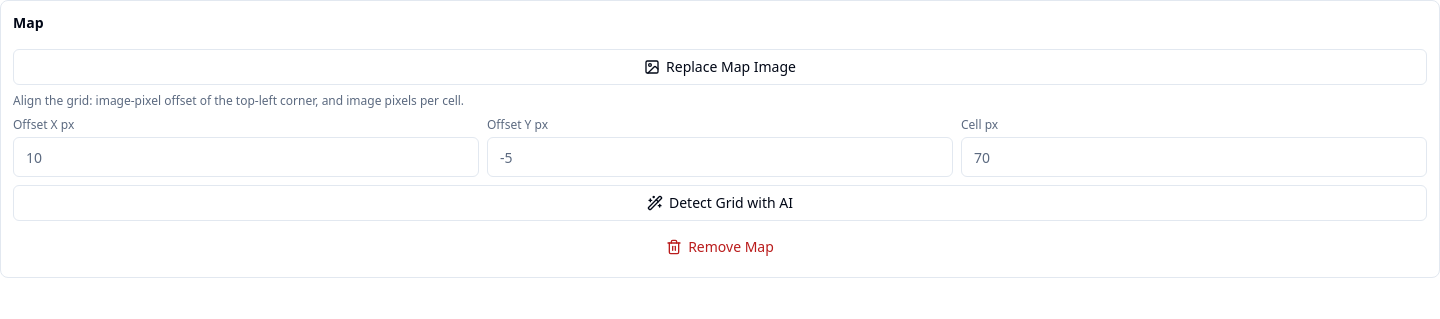
Test: MapPanel — Phase 10 grid detection › surfaces a flow error without offering anything to apply
Click the button "Detect Grid with AI". click: coordinates (720, 203)
box: [13,185,1427,221]
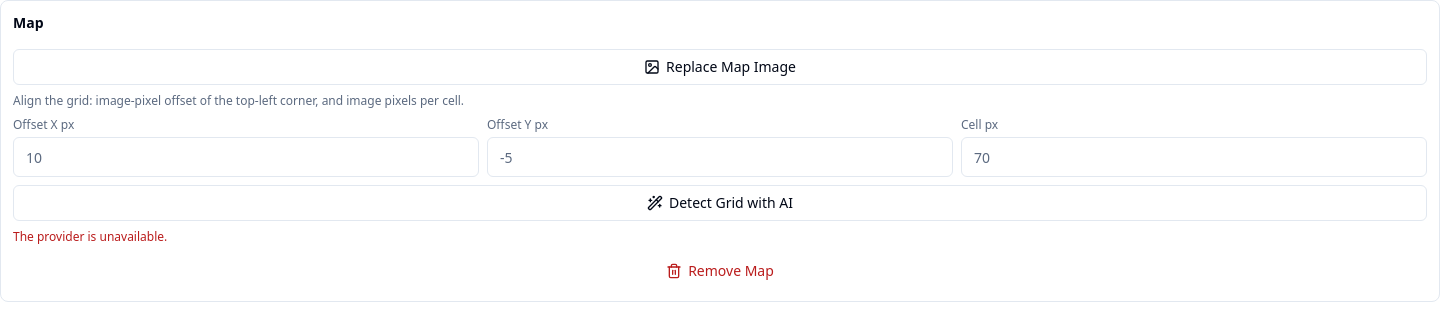
Now the text "The provider is unavailable." is shown, box [13,228,167,245]
